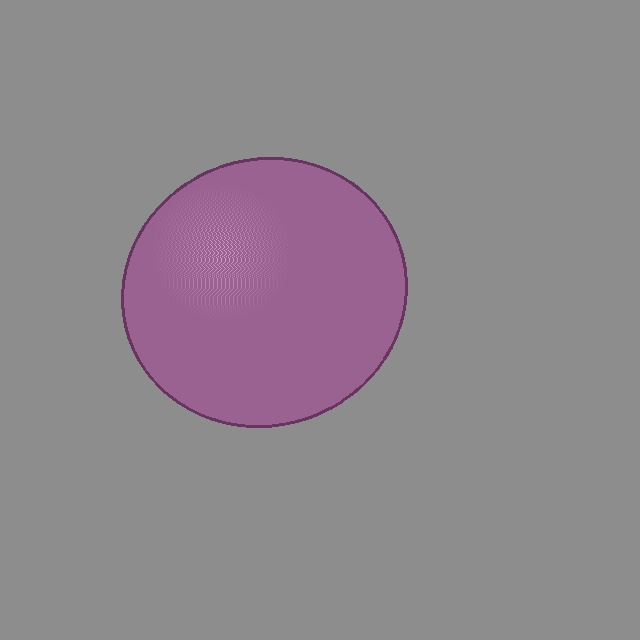lens: (122, 158, 406, 426)
